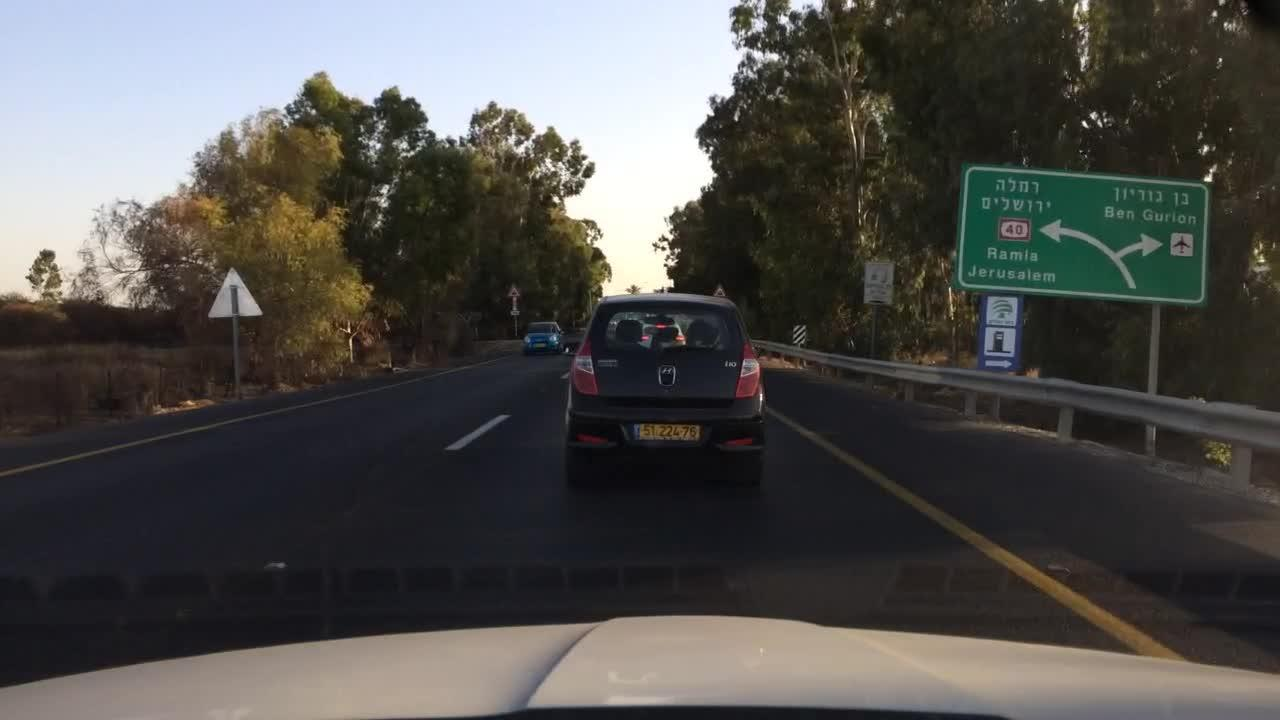Hyundai: (650, 360, 681, 379)
